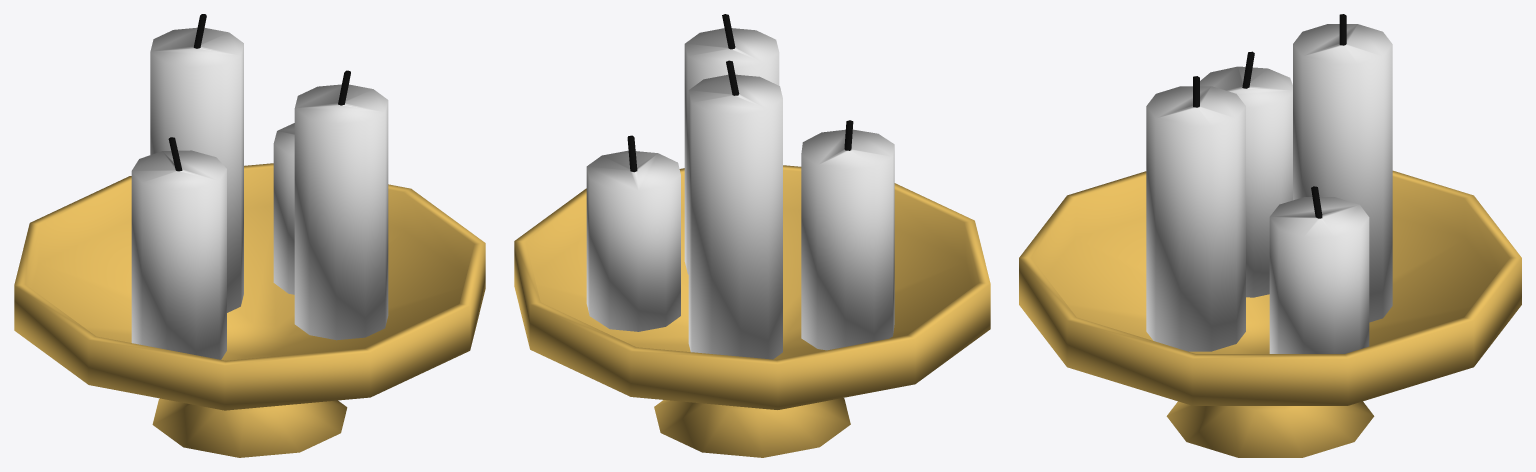
File: Lilin 1,2.fbx
3 renders of one model, left to right at view 1: azimuth 30°, elevation 25°; view 2: azimuth 150°, elevation 25°; view 3: azimuth 270°, elevation 25°, orthographic. The views are drawn at different scales.
Parts seen in each view (by area): view 1: Cylinder.027, Cylinder.023, Cylinder.024, Cylinder.022, Cylinder.025; view 2: Cylinder.027, Cylinder.022, Cylinder.024, Cylinder.025, Cylinder.023; view 3: Cylinder.027, Cylinder.023, Cylinder.022, Cylinder.025, Cylinder.024.
Boxes of the visible parts, box(x1,y1,x2,y2) form: Cylinder.027: box(14, 163, 485, 457); Cylinder.023: box(294, 70, 388, 340); Cylinder.024: box(131, 137, 226, 359); Cylinder.022: box(150, 14, 243, 312); Cylinder.025: box(273, 123, 294, 294); Cylinder.027: box(514, 165, 990, 457); Cylinder.022: box(688, 60, 782, 359); Cylinder.024: box(801, 120, 894, 350); Cylinder.025: box(586, 135, 680, 331); Cylinder.023: box(684, 14, 779, 274); Cylinder.027: box(1019, 170, 1521, 457); Cylinder.023: box(1146, 76, 1245, 351); Cylinder.022: box(1293, 14, 1392, 322); Cylinder.025: box(1269, 186, 1369, 353); Cylinder.024: box(1200, 51, 1292, 297).
Bounding box in the file's own units: 39.64 × 36.09 × 41.68.
